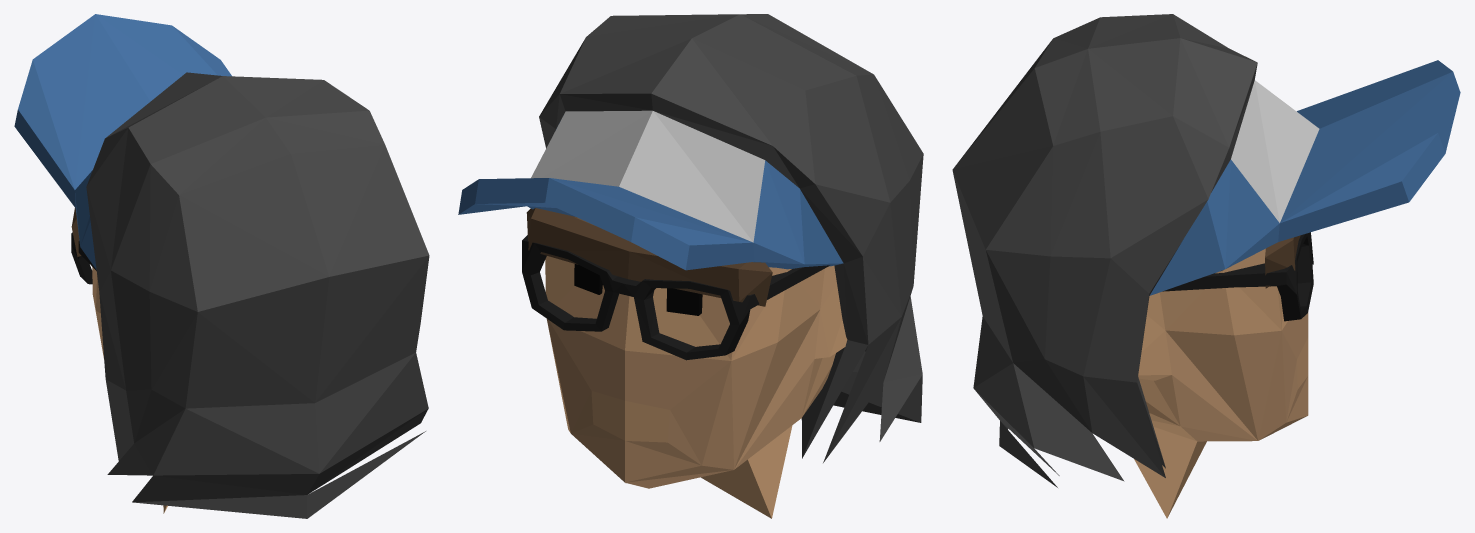
File: Son_01_03_B_Head.obj
3 renders of one model, left to right at view 1: azimuth 30°, elevation 25°; view 2: azimuth 150°, elevation 25°; view 3: azimuth 270°, elevation 25°, orthographic. The views are drawn at different scales.
Visible parts, largest first — view 1: Son_01_03_B_Head; view 2: Son_01_03_B_Head; view 3: Son_01_03_B_Head.
Boxes of the visible parts, bbox=[...] form: Son_01_03_B_Head: bbox=[14, 14, 429, 518]; Son_01_03_B_Head: bbox=[458, 14, 923, 518]; Son_01_03_B_Head: bbox=[952, 14, 1460, 518].
Bounding box in the file's own units: 0.2947 × 0.3976 × 0.4097.
Materials: 1 (1 with a texture image).
